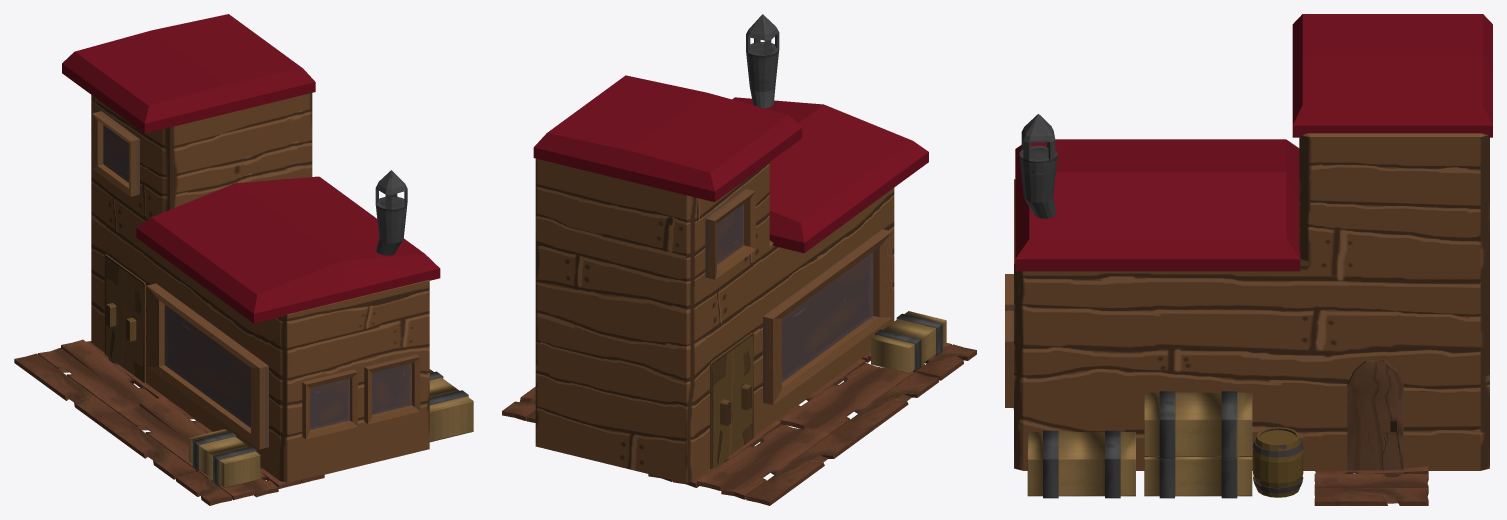
The model's file is rivia building.obj.
3 views of the same model, side by side, from view 1: azimuth 30°, elevation 25°; view 2: azimuth 150°, elevation 25°; view 3: azimuth 270°, elevation 25° (orthographic). The views are drawn at different scales.
Visible parts, largest first — view 1: Cylinder.019_Cylinder.024; view 2: Cylinder.019_Cylinder.024; view 3: Cylinder.019_Cylinder.024.
Part boxes in pixels (x1=…): Cylinder.019_Cylinder.024: x1=14, y1=14, x2=473, y2=505; Cylinder.019_Cylinder.024: x1=502, y1=14, x2=976, y2=505; Cylinder.019_Cylinder.024: x1=1005, y1=14, x2=1492, y2=505.
Bounding box in the file's own units: 15.35 × 16.07 × 19.28.
